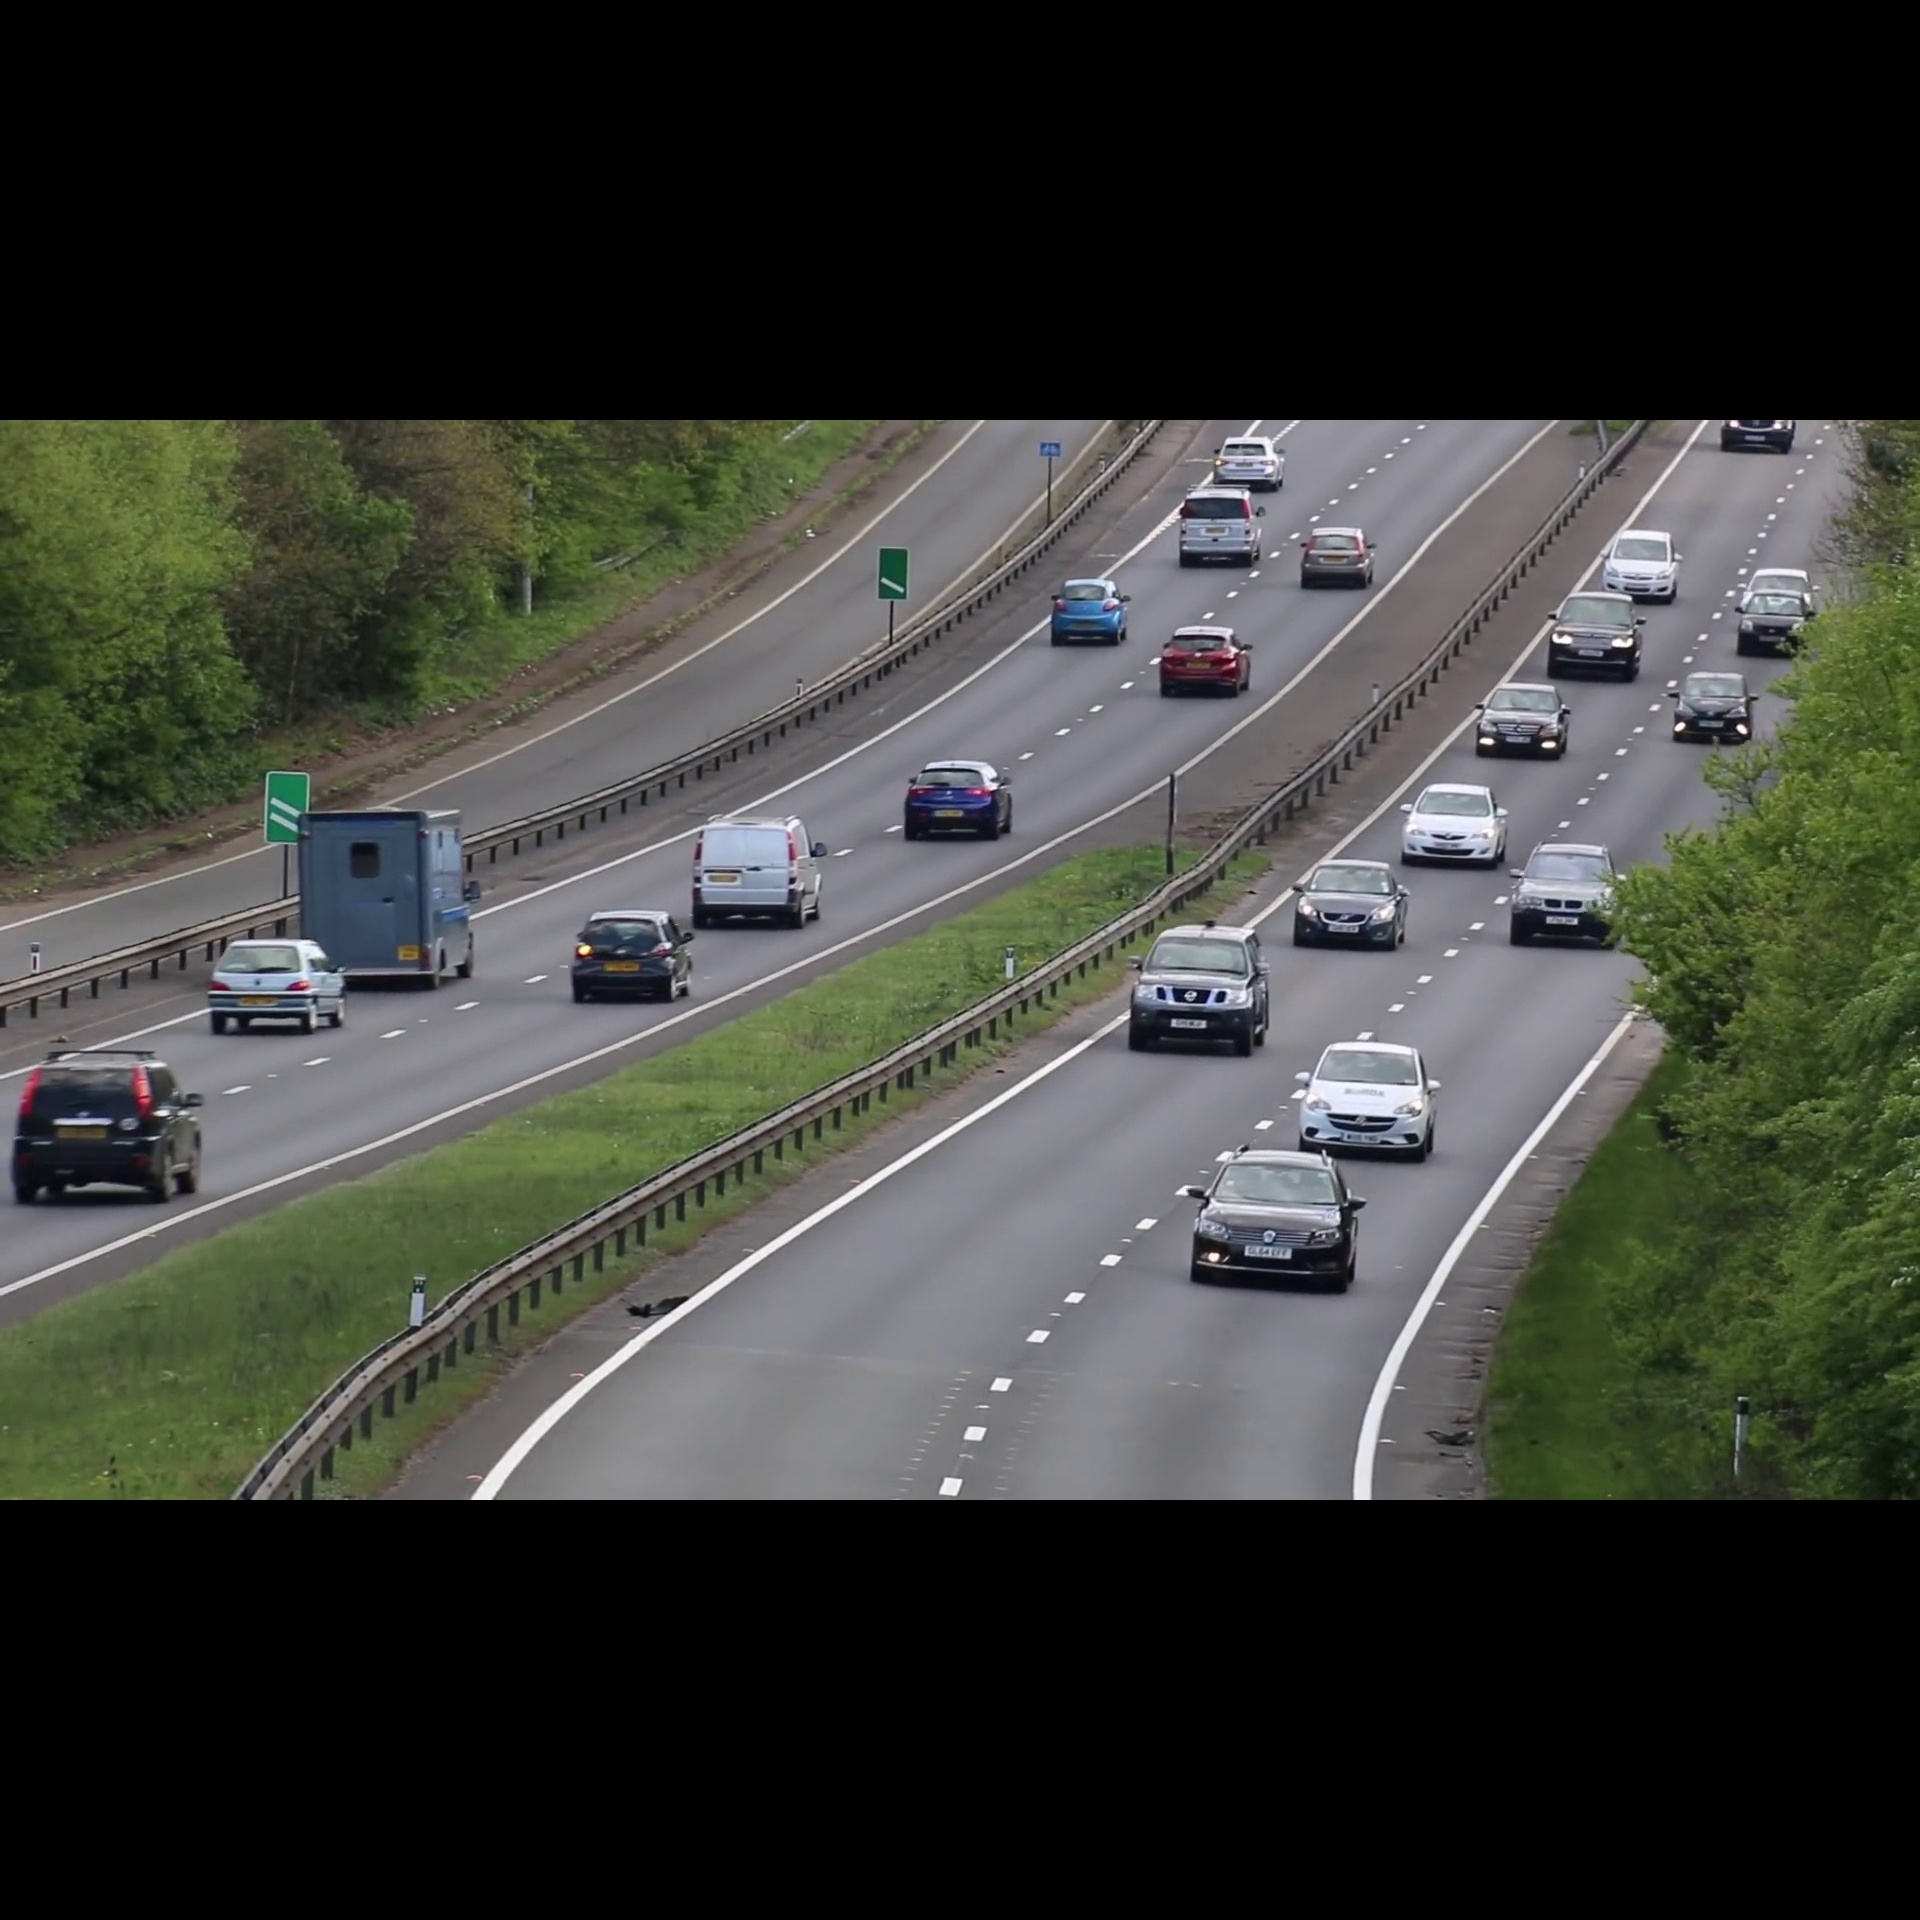vehicle: (9, 1041, 207, 1217), (294, 805, 482, 990), (1180, 1152, 1366, 1291), (1125, 921, 1275, 1060), (1292, 1036, 1438, 1164), (687, 812, 828, 928), (204, 935, 346, 1041), (561, 905, 700, 1007), (1507, 839, 1630, 949), (1289, 856, 1412, 949), (898, 753, 1016, 847), (1398, 777, 1509, 867), (1540, 593, 1642, 682), (1475, 680, 1570, 761), (1157, 622, 1255, 700), (1176, 489, 1268, 570), (1663, 672, 1758, 745), (1600, 526, 1691, 594), (1046, 577, 1131, 649), (1298, 522, 1380, 594), (1730, 593, 1815, 659), (1206, 431, 1291, 485)
